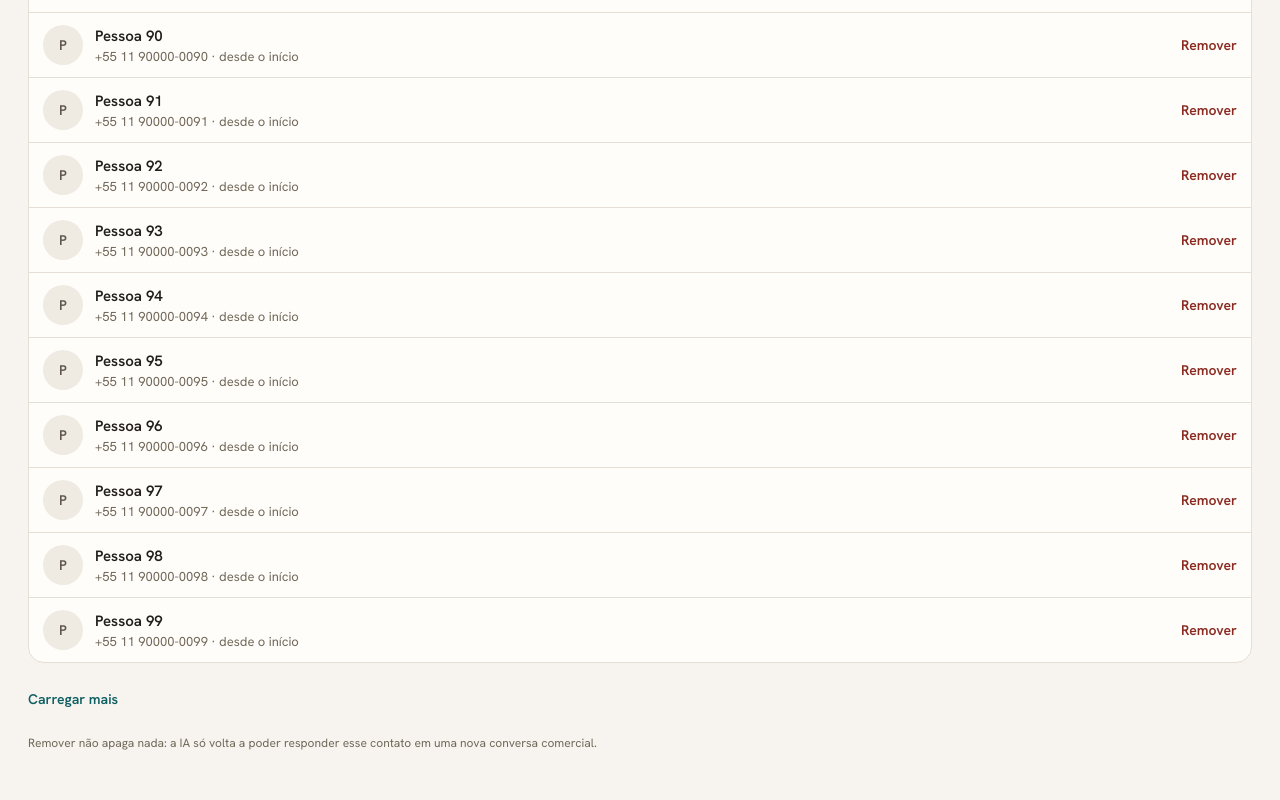
it: Goal140 a lista › Carregar mais lê o offset seguinte e some quando tudo foi lido
(page scrolled)
Click the button "Carregar mais" at [73, 699], box [28,679,118,719]
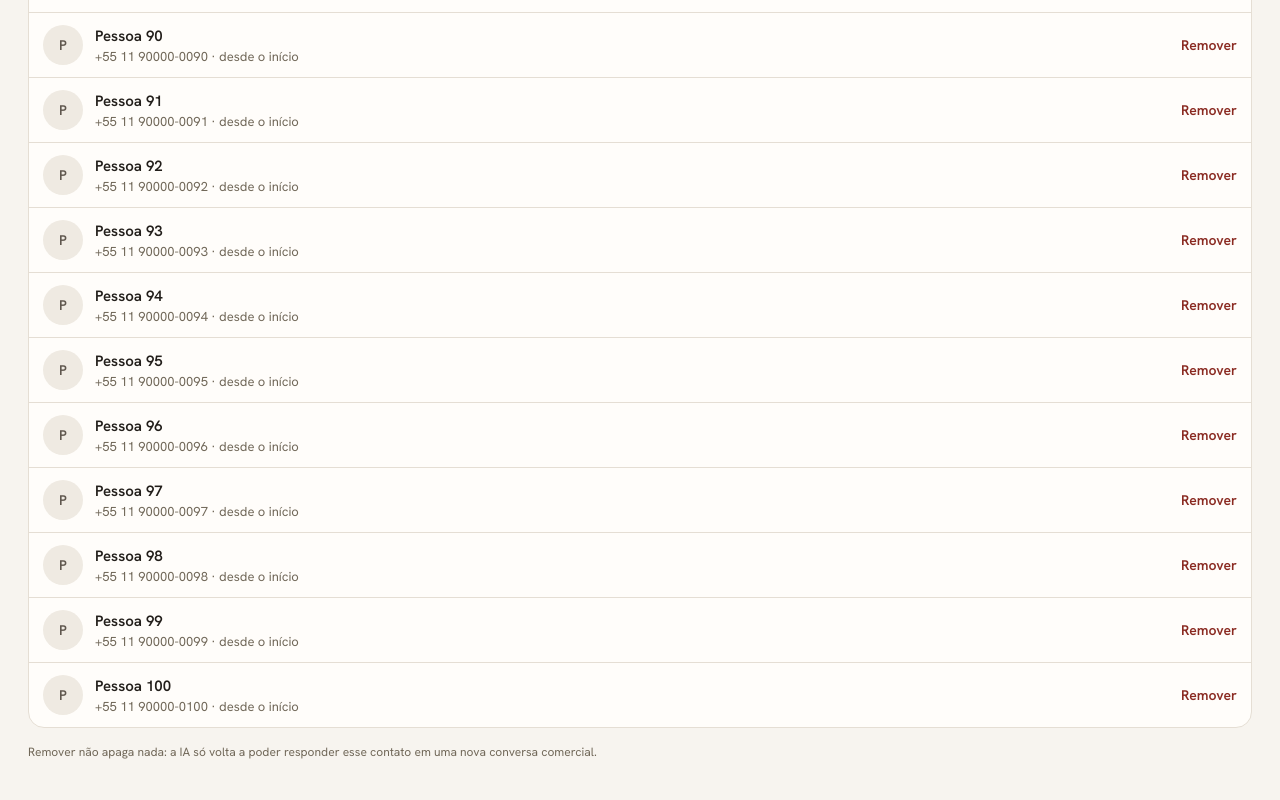
Expected: the text "Pessoa 100" is shown, [95,676,171,696]
Expected: the button "Carregar mais" is gone
